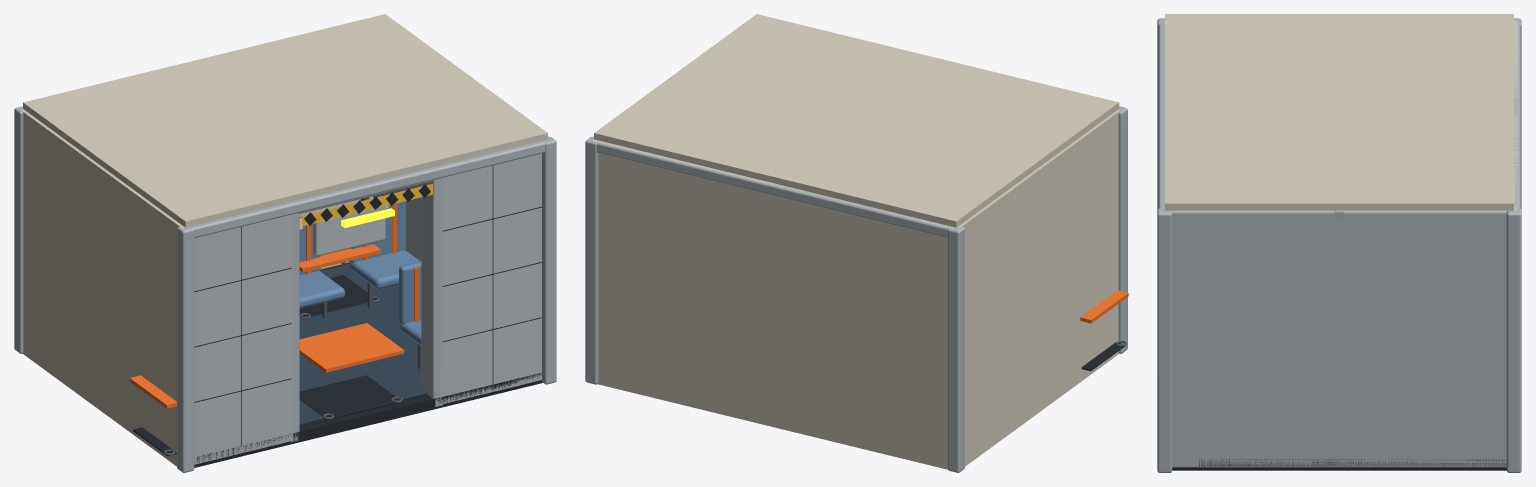
Rendered from refuge-v3.glb.
3 views of the same model, side by side, from view 1: azimuth 30°, elevation 25°; view 2: azimuth 150°, elevation 25°; view 3: azimuth 270°, elevation 25° (orthographic). The views are drawn at different scales.
Parts seen in each view (by area): view 1: roof_sheet (×2), surface_front-panel-grey, surface_side_l-hull-cream, refuge-v3-aluminium, refuge-v3-foam, door_frame-aluminium, strap_band (×3), refuge-v3-dark-polymer, zone_stack_door-dark-polymer, seat_D-cargo-bag-blue, refuge_screen-panel-grey, seat_C-cargo-bag-blue (+6 smaller); view 2: roof_sheet (×2), surface_back_r-hull-cream, surface_back_l-hull-cream, surface_side_l-hull-cream, refuge-v3-aluminium, strap_band; view 3: refuge-v3-panel-grey, roof_sheet (×2), refuge-v3-aluminium, surface_front-panel-grey, refuge-v3-dark-polymer.
Part boxes in pixels (x1=…): roof_sheet (×2): x1=23, y1=14, x2=547, y2=227; surface_front-panel-grey: x1=194, y1=153, x2=541, y2=464; surface_side_l-hull-cream: x1=21, y1=109, x2=185, y2=466; refuge-v3-aluminium: x1=14, y1=106, x2=556, y2=472; refuge-v3-foam: x1=299, y1=263, x2=427, y2=425; door_frame-aluminium: x1=290, y1=177, x2=443, y2=442; strap_band (×3): x1=129, y1=244, x2=404, y2=408; refuge-v3-dark-polymer: x1=194, y1=262, x2=542, y2=467; zone_stack_door-dark-polymer: x1=299, y1=375, x2=399, y2=420; seat_D-cargo-bag-blue: x1=349, y1=201, x2=419, y2=289; refuge_screen-panel-grey: x1=313, y1=206, x2=385, y2=256; seat_C-cargo-bag-blue: x1=299, y1=216, x2=344, y2=308; roof_sheet (×2): x1=594, y1=14, x2=1119, y2=227; surface_back_r-hull-cream: x1=592, y1=139, x2=774, y2=426; surface_back_l-hull-cream: x1=773, y1=183, x2=955, y2=469; surface_side_l-hull-cream: x1=956, y1=109, x2=1119, y2=466; refuge-v3-aluminium: x1=585, y1=106, x2=1127, y2=472; strap_band: x1=1080, y1=290, x2=1128, y2=323; refuge-v3-panel-grey: x1=1172, y1=210, x2=1506, y2=467; roof_sheet (×2): x1=1165, y1=14, x2=1513, y2=210; refuge-v3-aluminium: x1=1157, y1=18, x2=1521, y2=472; surface_front-panel-grey: x1=1172, y1=210, x2=1198, y2=467; refuge-v3-dark-polymer: x1=1172, y1=459, x2=1506, y2=470.
Size of the model in its own units: 3.8 by 2.36 by 2.92.
